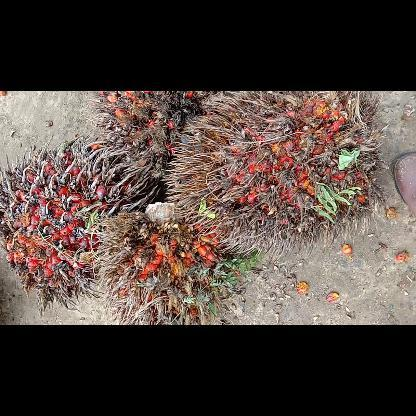Terlalu masak: (159, 90, 391, 258), (0, 126, 165, 314), (85, 198, 235, 324), (82, 91, 220, 189)
